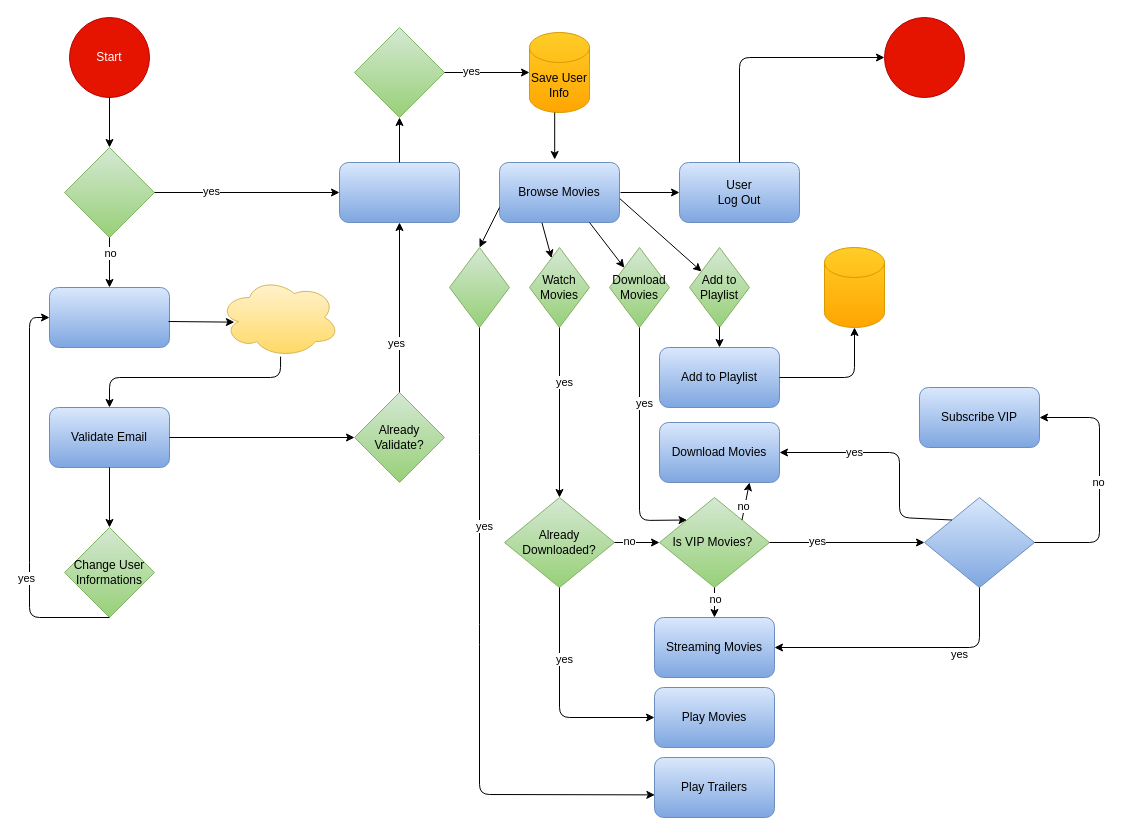
This 1125x835 diagram has some shape labels left out. Each missing label, with the centre of its shape:
Already Registered?: point 109,192
End: point 924,57
Is Login Success?: point 399,72
Is VIP Member?: point 979,542
Save Movies: point 854,287
Save/ Update User Info: point 279,317
User Login: point 399,192
User Sign Up: point 109,317
Watch Trailers: point 479,287
